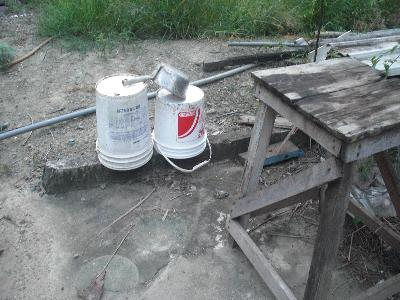bowl: (154, 63, 190, 101)
bucket: (92, 72, 154, 172), (153, 84, 208, 161)
